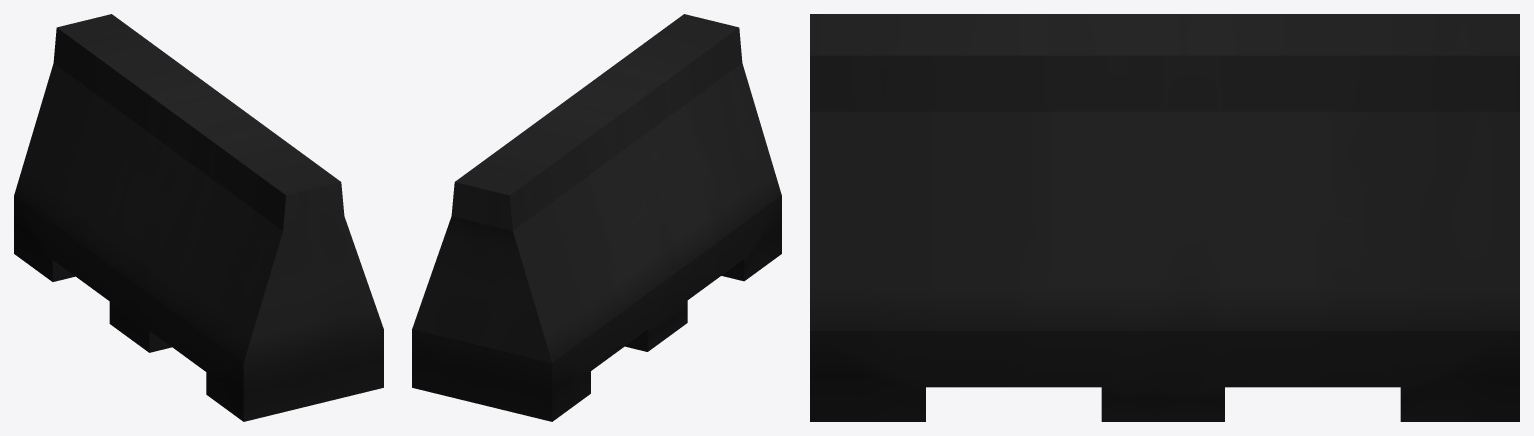
The model's file is Barrier-Red.obj.
3 renders of one model, left to right at view 1: azimuth 30°, elevation 25°; view 2: azimuth 150°, elevation 25°; view 3: azimuth 270°, elevation 25°, orthographic. The views are drawn at different scales.
Visible parts, largest first — view 1: Barrier_Cube.007; view 2: Barrier_Cube.007; view 3: Barrier_Cube.007.
Boxes of the visible parts, x1,y1,x2,y2 form: Barrier_Cube.007: [14, 14, 383, 421]; Barrier_Cube.007: [412, 14, 781, 421]; Barrier_Cube.007: [810, 14, 1519, 421].
Size of the model in its own units: 0.705 by 1.04 by 2.
